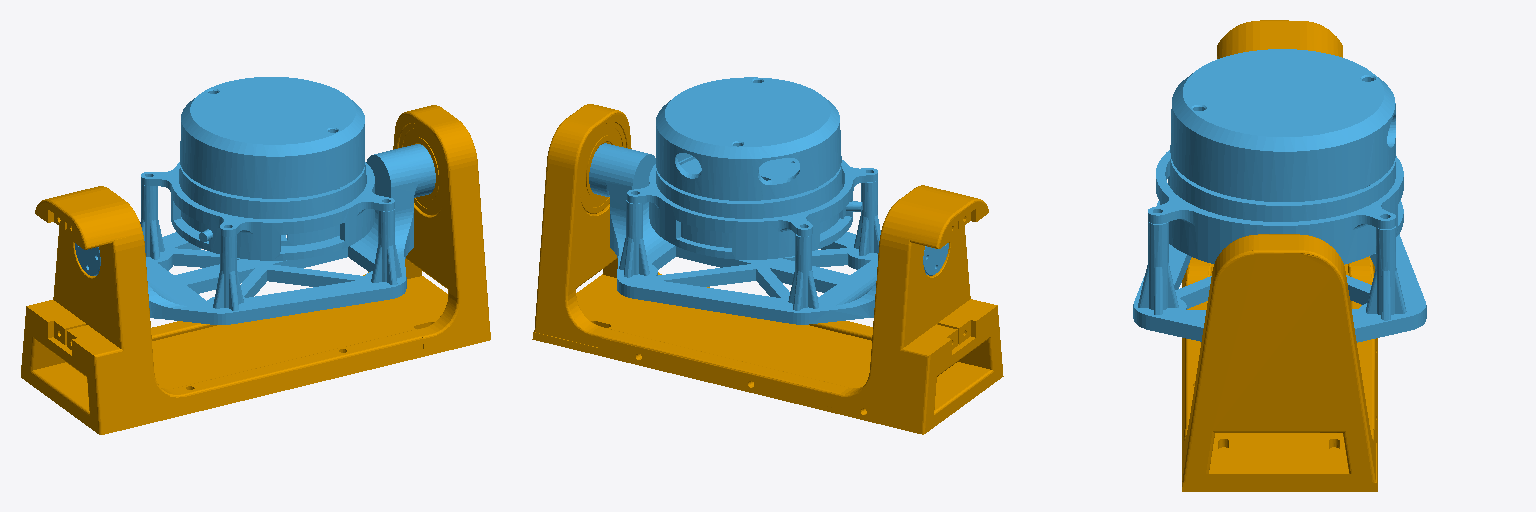
robot.urdf — my_robot:
<robot name="my_robot">

  <!-- Base Link -->
  <link name="base_link">
    <visual>
      <origin xyz="0 0 -0.06" rpy="0 0 0"/>
      <geometry>
        <mesh filename="package://my_robot_description/meshes/Base.stl" scale="0.001 0.001 0.001"/>
      </geometry>
    </visual>
    <collision>
      <origin xyz="0 0 -0.06" rpy="0 0 0"/>
      <geometry>
        <mesh filename="package://my_robot_description/meshes/Base.stl" scale="0.001 0.001 0.001"/>
      </geometry>
    </collision>
  </link>

  <!-- YDLiDAR Link -->
  <link name="lidar_link">
    <visual>
      <origin xyz="0 0 -0.024" rpy="0 0 0"/>  <!-- Base 위에 LiDAR 위치 -->
      <geometry>
        <mesh filename="package://my_robot_description/meshes/YDLiDAR.stl" scale="0.001 0.001 0.001"/>
      </geometry>
    </visual>
    <collision>
      <origin xyz="0 0 -0.024" rpy="0 0 0"/>
      <geometry>
        <mesh filename="package://my_robot_description/meshes/YDLiDAR.stl" scale="0.001 0.001 0.001"/>
      </geometry>
    </collision>
  </link>

  <!-- Joint to connect Base and Lidar (Revolute) -->
  <joint name="base_to_lidar" type="revolute">
    <parent link="base_link"/>
    <child link="lidar_link"/>
    <origin xyz="0 0 0" rpy="0 0 0"/> <!-- LiDAR가 Base 위에 고정 -->
    <axis xyz="1 0 0"/>  <!-- X축을 기준으로 회전 -->
    <limit effort="1.0" velocity="1.0" lower="-1.57" upper="1.57"/> <!-- 회전 범위 -90도에서 90도까지 -->
  </joint>

</robot>

--- Render facts (derived) ---
The picture shows the robot from 3 angles, left to right: view 1: azimuth 30°, elevation 25°; view 2: azimuth 150°, elevation 25°; view 3: azimuth 270°, elevation 25°; orthographic projection.
Robot: my_robot — 2 links, 1 joints (1 revolute); root link base_link; default pose: all joints at 0.
Visible links, largest first — view 1: base_link, lidar_link; view 2: base_link, lidar_link; view 3: lidar_link, base_link.
Boxes of the visible links, x1,y1,x2,y2 form: base_link: (21,105,490,434); lidar_link: (75,77,435,324); base_link: (532,104,1003,434); lidar_link: (589,77,948,324); lidar_link: (1133,49,1426,342); base_link: (1182,20,1377,491).
Bounding box of the posed robot: 0.174 × 0.0929 × 0.1033 m (x, y, z).
2 mesh visuals loaded from 2 distinct referenced files (2 binary STL).
